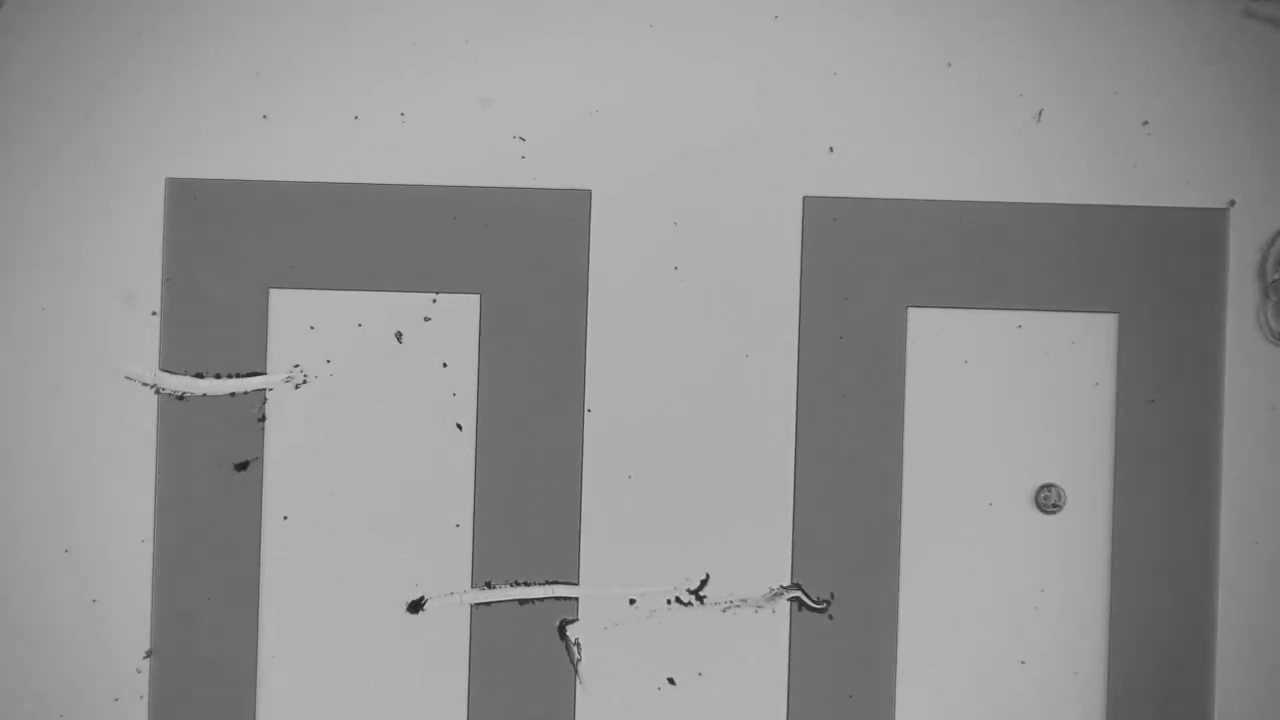Short_circuit: (124, 343, 292, 418), (447, 556, 607, 627)
